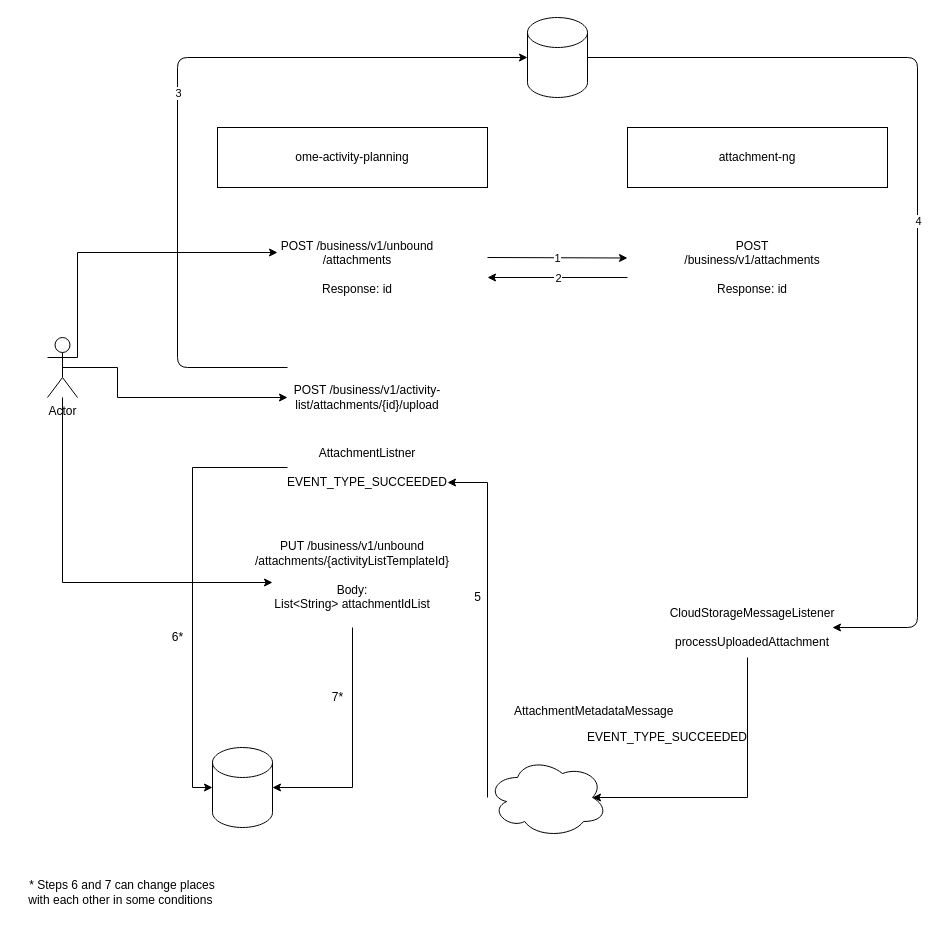
Image size: 943x945. Some labels were removed from this diagram. The centre of each missing label's shape, as x and y in pixels:
"Google storage" belongs at point 557,57.
"KAFKA" belongs at point 547,797.
